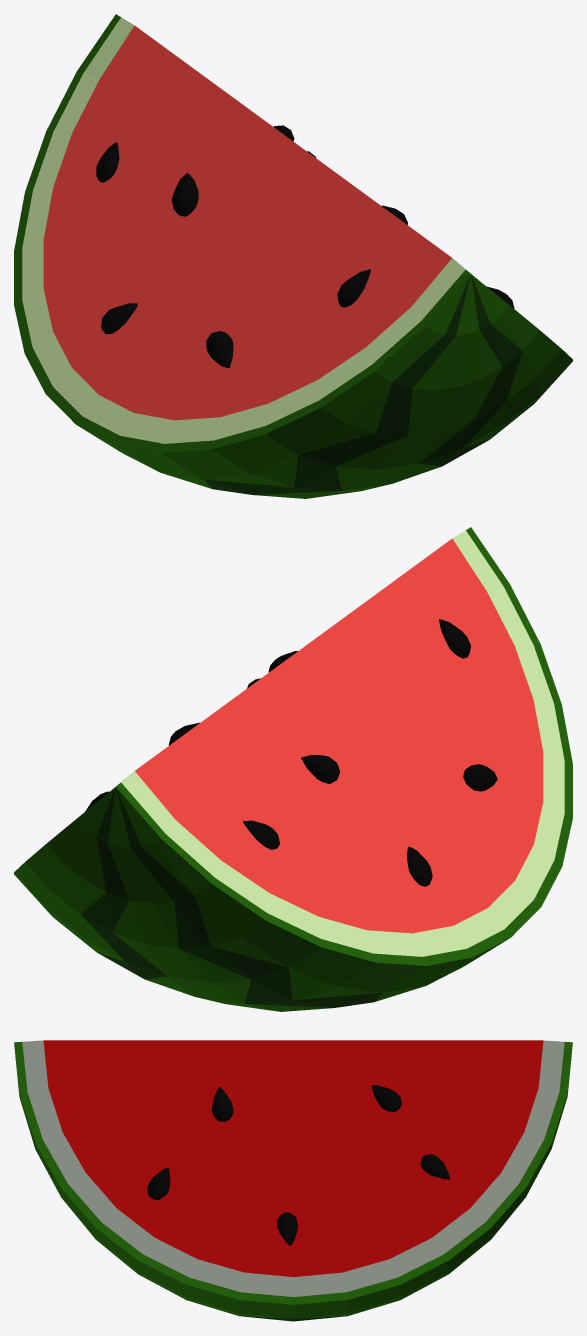
Rendered from watermelon.glb.
3 renders of one model, top to bottom at view 1: azimuth 30°, elevation 25°; view 2: azimuth 150°, elevation 25°; view 3: azimuth 270°, elevation 25°, orthographic. The views are drawn at different scales.
Parts seen in each view (by area): view 1: watermelonFruit, watermelonPeel, seed.006, seed.014, seed.007, seed.008, seed.011; view 2: watermelonFruit, watermelonPeel, seed.006, seed.007, seed.014, seed.008, seed.011; view 3: watermelonFruit, seed.017, seed.018, seed.015, seed.009, seed.013.
Part boxes in pixels (left/top/right/bottom): watermelonFruit: left=14, top=14, right=572, bottom=498; watermelonPeel: left=204, top=275, right=522, bottom=494; seed.006: left=172, top=172, right=198, bottom=216; seed.014: left=206, top=331, right=233, bottom=368; seed.007: left=337, top=269, right=370, bottom=307; seed.008: left=101, top=303, right=137, bottom=334; seed.011: left=96, top=142, right=119, bottom=182; watermelonFruit: left=14, top=527, right=572, bottom=1011; watermelonPeel: left=80, top=788, right=382, bottom=1007; seed.006: left=301, top=755, right=339, bottom=783; seed.007: left=439, top=619, right=470, bottom=658; seed.014: left=463, top=764, right=497, bottom=791; seed.008: left=407, top=846, right=432, bottom=886; seed.011: left=243, top=820, right=279, bottom=849; watermelonFruit: left=14, top=1040, right=572, bottom=1318; seed.017: left=371, top=1085, right=401, bottom=1111; seed.018: left=212, top=1086, right=233, bottom=1121; seed.015: left=147, top=1167, right=170, bottom=1199; seed.009: left=277, top=1212, right=297, bottom=1245; seed.013: left=420, top=1154, right=450, bottom=1179.
Size of the model in its own units: 0.6664 by 0.4389 by 0.9426.
